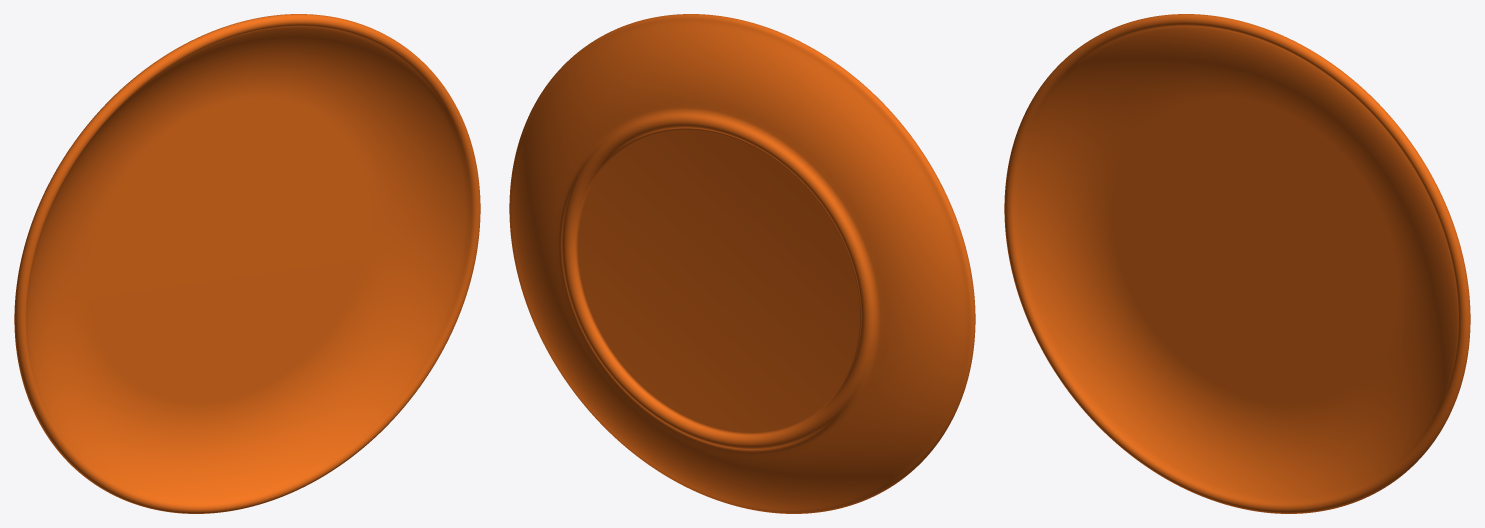
Rendered from plate.obj.
3 renders of one model, left to right at view 1: azimuth 30°, elevation 25°; view 2: azimuth 150°, elevation 25°; view 3: azimuth 330°, elevation 25°, orthographic.
Visible parts, largest first — view 1: geometry_0; view 2: geometry_0; view 3: geometry_0.
Part boxes in pixels (x1,y1,x2,y2): geometry_0: [14, 14, 480, 513]; geometry_0: [509, 14, 975, 513]; geometry_0: [1004, 14, 1470, 513].
Bounding box in the file's own units: 0.177 × 0.177 × 0.02.
Materials: 1 (1 with a texture image).
